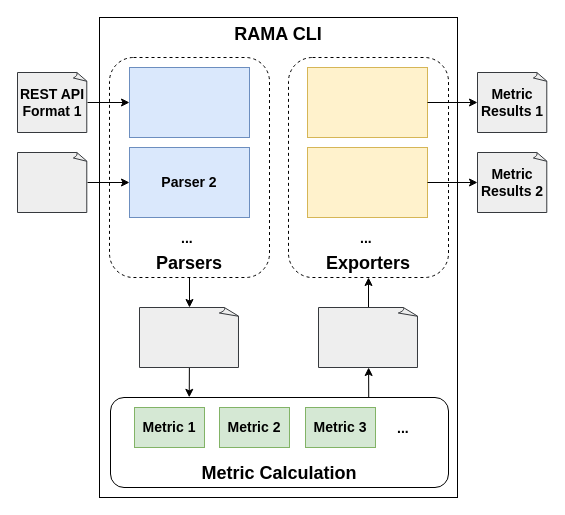
The diagram is 565 pixels wide and 515 high, and some of its shapes have lost their labels. Here are the shapes that lost their labels. From the top down, the centre of each, then its label:
pixel 189 102: Parser 1
pixel 367 102: Exporter 1
pixel 52 182: REST API Format 2
pixel 367 182: Exporter 2
pixel 189 337: Canonical REST API Model
pixel 368 337: Canonical Metric Results
